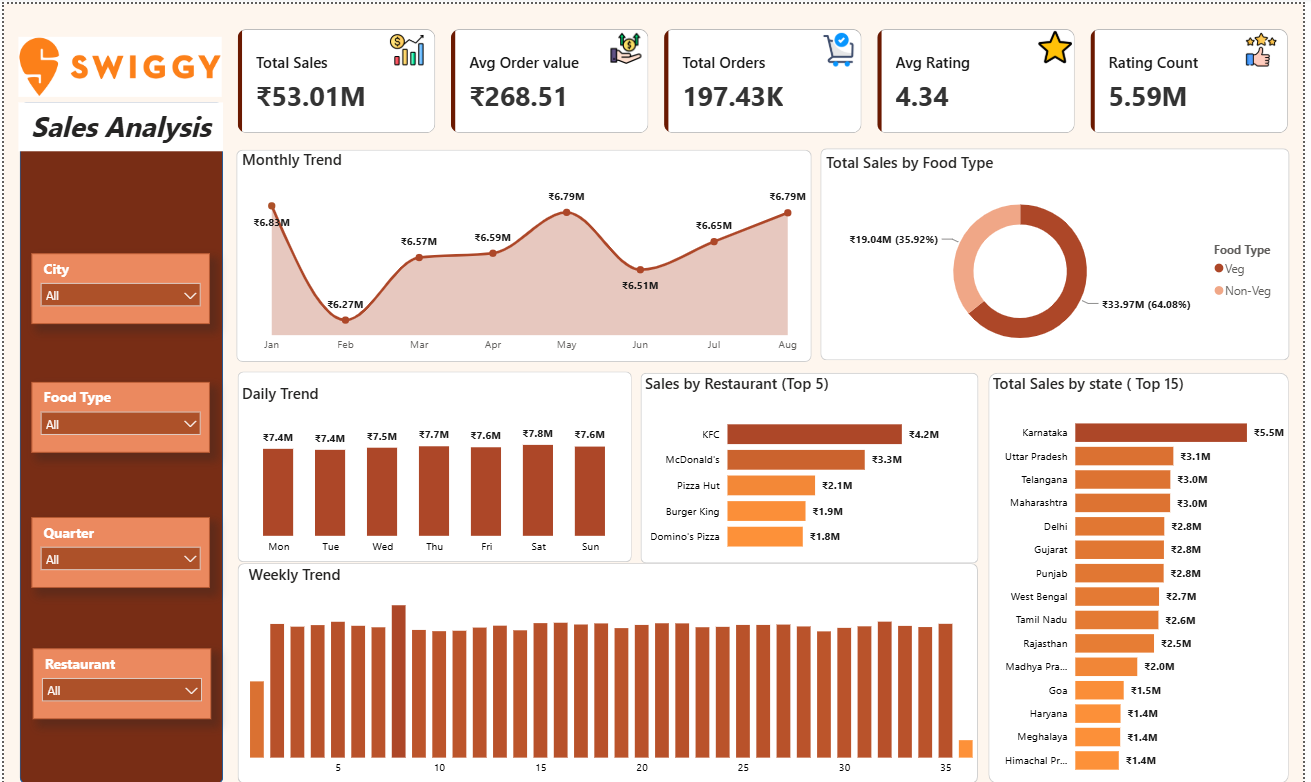

The dashboard page shown, as its layout file describes it:
{"tool":"powerbi","page":{"name":"Page 1","canvas":[1500,900],"ordinal":0},"visuals":[{"type":"shape","box":[18.2,113.6,234.8,786.4],"z":0},{"type":"cardVisual","fields":{"Data":["fact_orders.Total Sales","fact_orders.Avergae Order value","fact_orders.Total Orders","Avg(fact_orders.rating)","Sum(fact_orders.rating_count)"]},"box":[253,12.1,1247,154.5],"z":1000},{"type":"image","box":[433.3,33.3,63.4,39.2],"z":2000},{"type":"image","box":[686.4,33.3,63,36],"z":3000},{"type":"image","box":[931.8,33.3,63,39],"z":4000},{"type":"image","box":[1181.8,30.3,63.4,39.2],"z":5000},{"type":"image","box":[1419.7,33.3,63.4,39],"z":6000},{"type":"image","box":[16.7,31.8,234.8,81.8],"z":7000},{"type":"shape","box":[268.5,167.5,664,245],"z":8000},{"type":"areaChart","title":"Monthly Trend","fields":{"Category":["dim_date.Month"],"Y":["fact_orders.Total Sales"]},"box":[269.2,166.2,673.8,244.6],"z":9000},{"type":"shape","box":[943.1,166.2,541.5,244.6],"z":10000},{"type":"donutChart","fields":{"Category":["dim_dish.Food Type"],"Y":["fact_orders.Total Sales"]},"box":[944.6,169.2,541.5,243.1],"z":11000},{"type":"shape","box":[269.2,424.6,455,220],"z":12000},{"type":"columnChart","title":"Daily Trend","fields":{"Category":["dim_date.Day"],"Y":["fact_orders.Total Sales"]},"box":[269.7,436.4,454.5,207.6],"z":13000},{"type":"shape","box":[735.4,426.2,390,220],"z":14000},{"type":"barChart","title":"Sales by Restaurant (Top 5)","fields":{"Category":["dim_restaurant.restaurant_name"],"Y":["fact_orders.Total Sales"]},"box":[734.8,425.8,389.4,218.2],"z":15000},{"type":"shape","box":[1136.4,425.8,347,474.2],"z":16000},{"type":"barChart","title":"Total Sales by state ( Top 15)","fields":{"Category":["dim_location.state"],"Y":["fact_orders.Total Sales"]},"box":[1136.4,425.8,347,474.2],"z":17000},{"type":"shape","box":[269.7,645.5,854.5,254.5],"z":18000},{"type":"columnChart","title":"Weekly Trend","fields":{"Category":["dim_date.Week number"],"Y":["fact_orders.Total Sales"]},"box":[277.3,645.5,847,254.5],"z":19000},{"type":"slicer","title":"city","fields":{"Values":["dim_location.city"]},"box":[31.8,287.9,206.1,81.8],"z":20000},{"type":"slicer","title":"city","fields":{"Values":["dim_dish.Food Type"]},"box":[31.8,436.4,206.1,81.8],"z":21000},{"type":"slicer","title":"city","fields":{"Values":["dim_date.Quarter"]},"box":[31.8,592.4,206.1,81.8],"z":22000},{"type":"slicer","title":"city","fields":{"Values":["dim_restaurant.restaurant_name"]},"box":[33.3,743.9,206.1,81.8],"z":23000},{"type":"textbox","box":[16.7,113.6,236.4,56.1],"z":23001}]}

Visuals, with their boxes in screenshot pixels (x1, y1, x2, y2), scaled from the page's 1500x900 canvas onto the 1311x782 screenshot:
shape: select_region(16, 99, 221, 781)
cardVisual - fact_orders.Total Sales x fact_orders.Avergae Order value: select_region(221, 11, 1310, 145)
image: select_region(379, 29, 434, 63)
image: select_region(600, 29, 655, 60)
image: select_region(814, 29, 869, 63)
image: select_region(1033, 26, 1088, 60)
image: select_region(1241, 29, 1296, 63)
image: select_region(15, 28, 220, 99)
shape: select_region(235, 146, 815, 358)
"Monthly Trend" areaChart: select_region(235, 144, 824, 357)
shape: select_region(824, 144, 1298, 357)
donutChart - dim_dish.Food Type x fact_orders.Total Sales: select_region(826, 147, 1299, 358)
shape: select_region(235, 369, 633, 560)
"Daily Trend" columnChart: select_region(236, 379, 633, 560)
shape: select_region(643, 370, 984, 561)
"Sales by Restaurant (Top 5)" barChart: select_region(642, 370, 983, 560)
shape: select_region(993, 370, 1296, 781)
"Total Sales by state ( Top 15)" barChart: select_region(993, 370, 1296, 781)
shape: select_region(236, 561, 983, 781)
"Weekly Trend" columnChart: select_region(242, 561, 983, 781)
"city" slicer: select_region(28, 250, 208, 321)
"city" slicer: select_region(28, 379, 208, 450)
"city" slicer: select_region(28, 515, 208, 586)
"city" slicer: select_region(29, 646, 209, 717)
textbox: select_region(15, 99, 221, 147)
